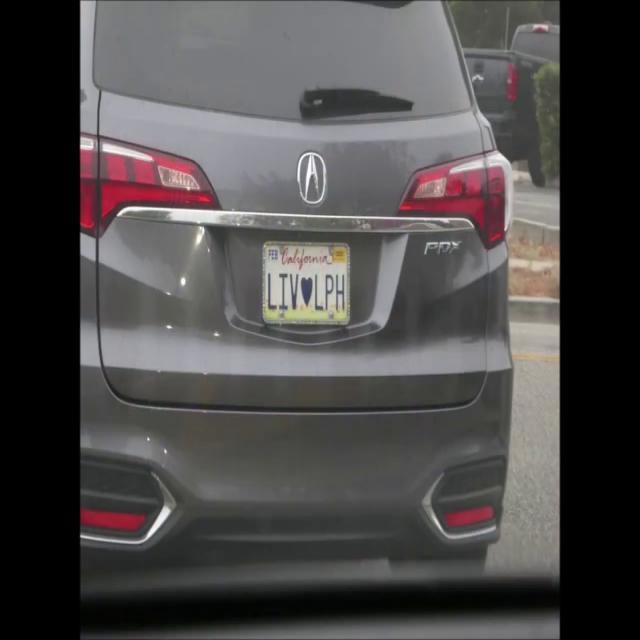licenseplate: (260, 222, 354, 329)
